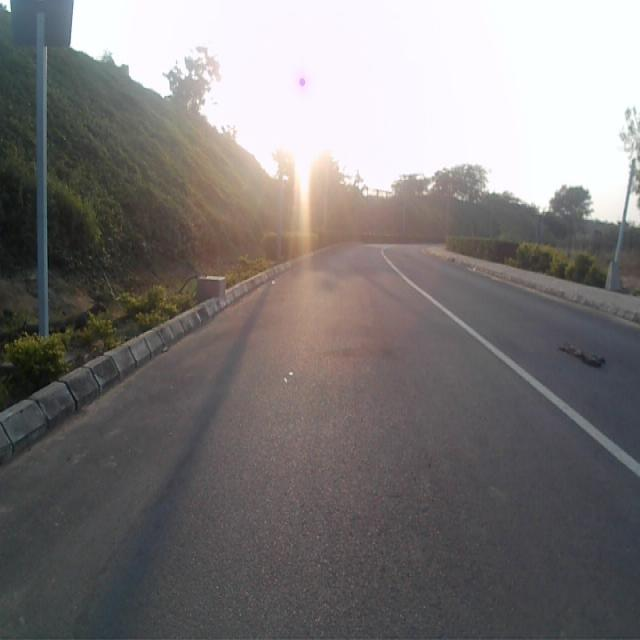lane: (0, 246, 640, 640)
